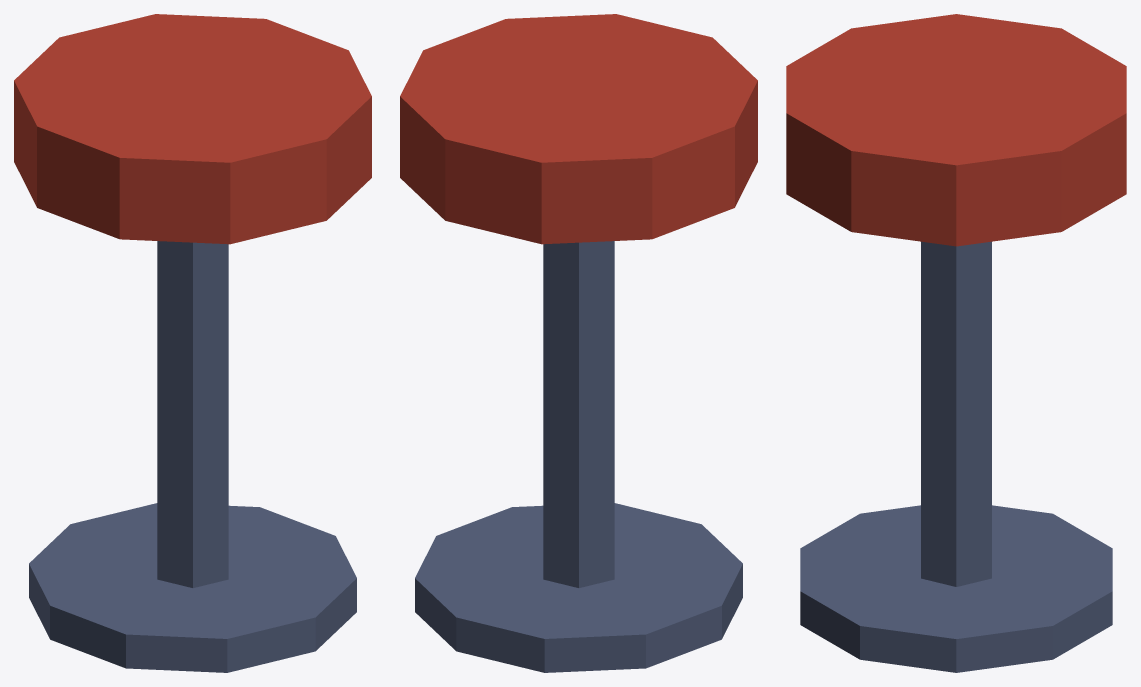
File: stool.glb
3 views of the same model, side by side, from view 1: azimuth 30°, elevation 25°; view 2: azimuth 150°, elevation 25°; view 3: azimuth 270°, elevation 25° (orthographic).
Parts seen in each view (by area): view 1: Seat; view 2: Seat; view 3: Seat.
Boxes of the visible parts, bbox=[...] form: Seat: bbox=[14, 14, 371, 672]; Seat: bbox=[400, 14, 757, 672]; Seat: bbox=[786, 14, 1126, 672].
Bounding box in the file's own units: 0.48 × 0.76 × 0.4565.
